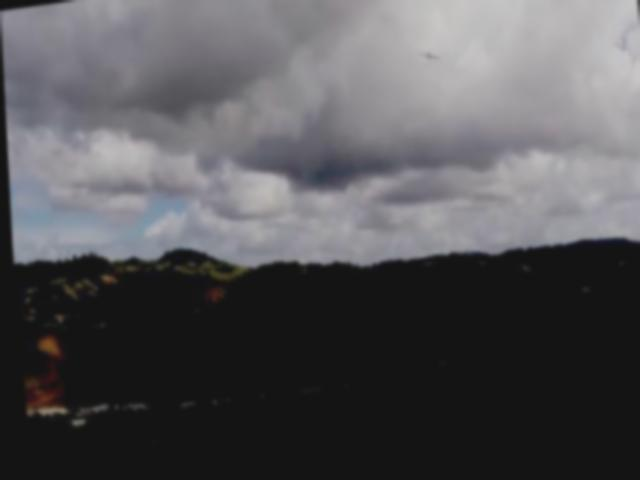iha: (413, 56, 441, 76)
